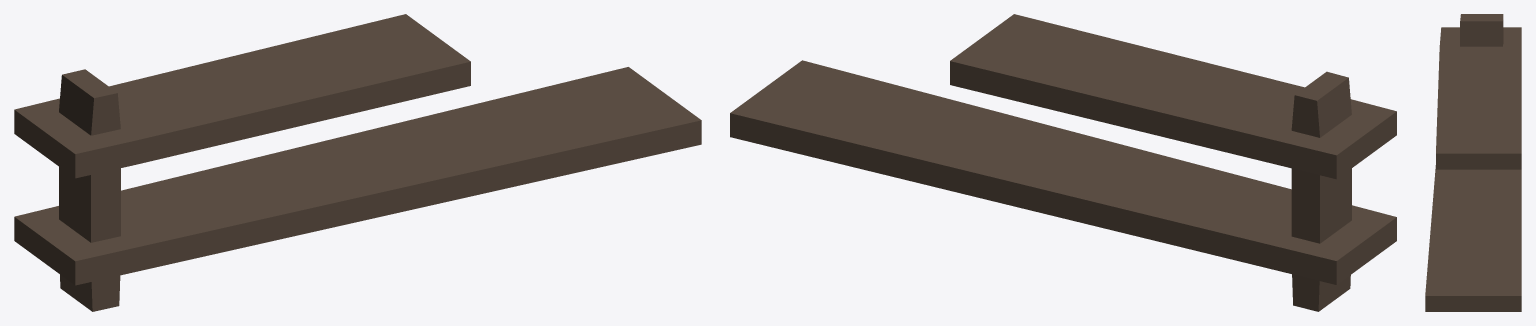
File: Estanteria.fbx
3 renders of one model, left to right at view 1: azimuth 30°, elevation 25°; view 2: azimuth 150°, elevation 25°; view 3: azimuth 270°, elevation 25°, orthographic. The views are drawn at different scales.
Parts seen in each view (by area): view 1: Estanteria; view 2: Estanteria; view 3: Estanteria.
Part boxes in pixels (x1,y1,x2,y2): Estanteria: (14, 14, 701, 311); Estanteria: (730, 14, 1396, 311); Estanteria: (1425, 14, 1521, 311).
Bounding box in the file's own units: 180 × 59.74 × 37.13.
